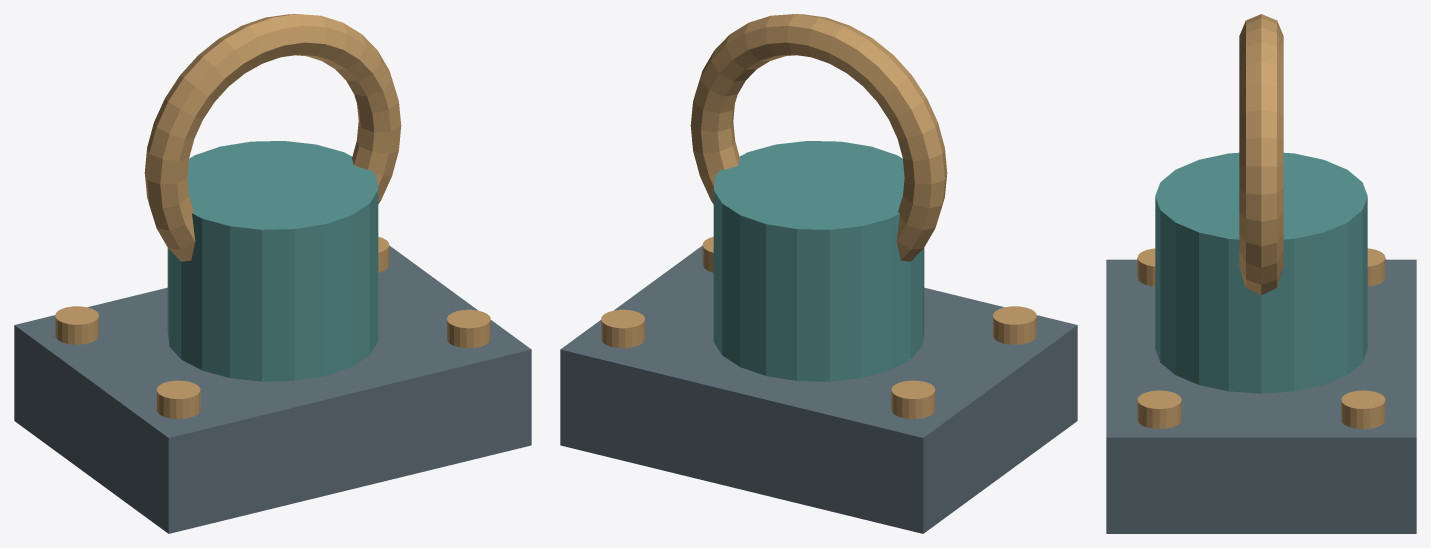
Rendered from GangwayAnchor.glb.
3 views of the same model, side by side, from view 1: azimuth 30°, elevation 25°; view 2: azimuth 150°, elevation 25°; view 3: azimuth 270°, elevation 25° (orthographic).
Visible parts, largest first — view 1: GangwayAnchor; view 2: GangwayAnchor; view 3: GangwayAnchor.
Boxes of the visible parts, box(x1,y1,x2,y2) form: GangwayAnchor: box(14, 14, 531, 533); GangwayAnchor: box(560, 14, 1077, 533); GangwayAnchor: box(1106, 14, 1416, 533).
Size of the model in its own units: 0.95 by 1.04 by 0.7.
